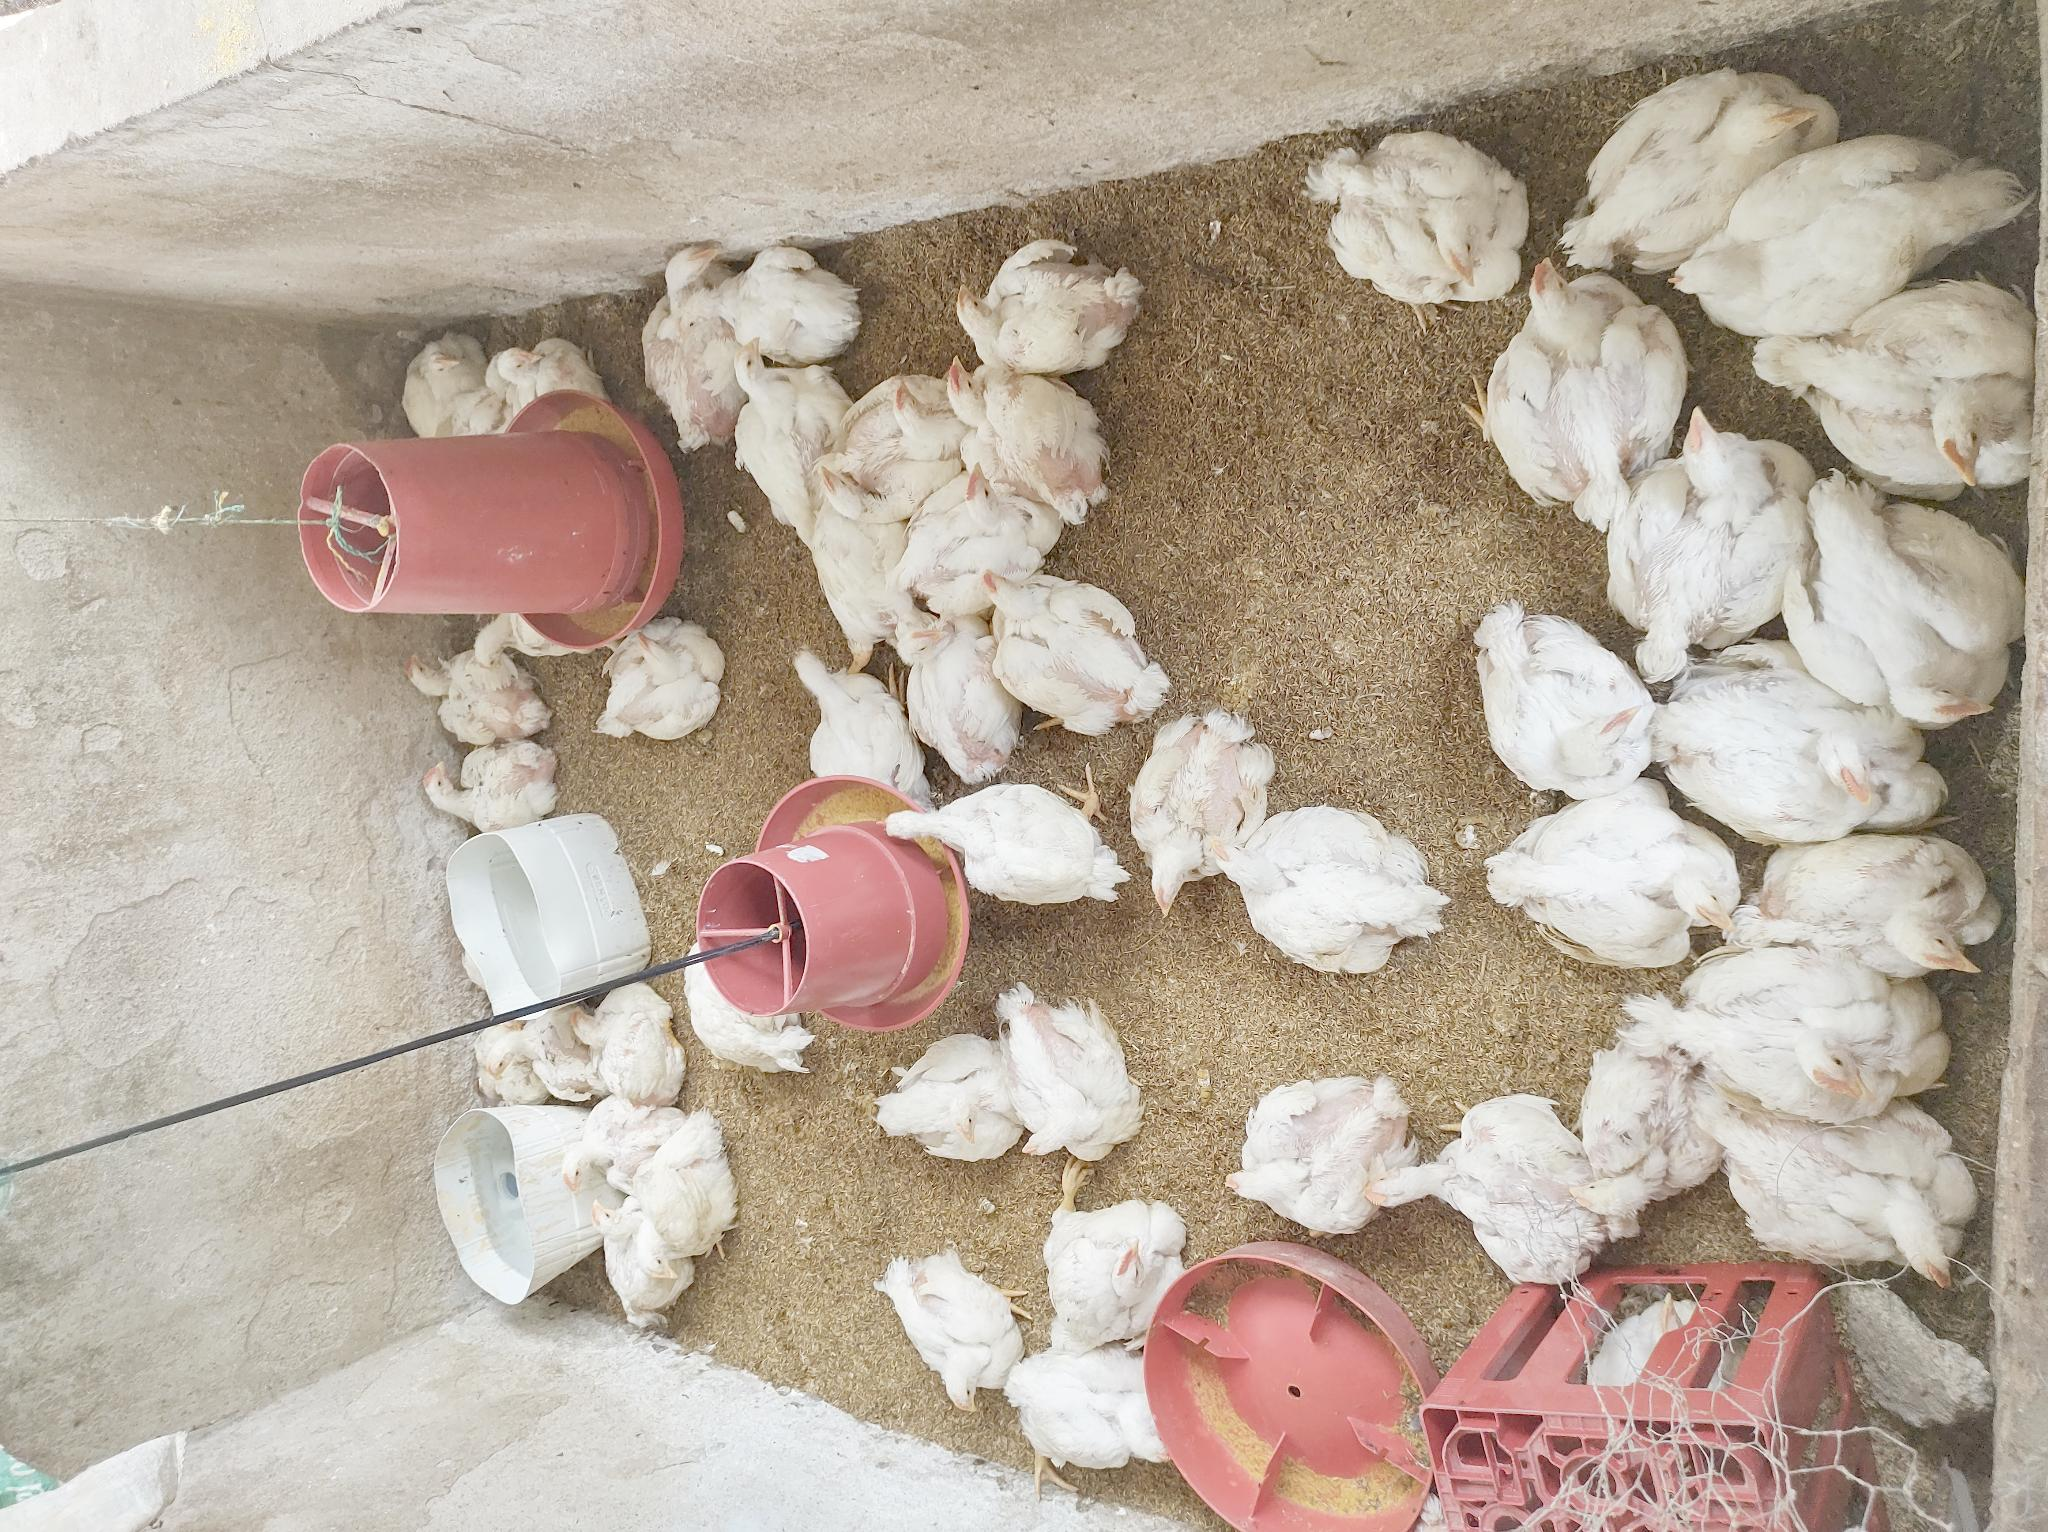Pollos: (1672, 103, 2013, 341), (1691, 1060, 1990, 1303), (1760, 467, 2021, 732), (1569, 39, 1837, 269), (1655, 644, 1964, 842), (1733, 299, 2048, 488), (1470, 240, 1680, 502), (1615, 394, 1803, 674), (1482, 777, 1742, 970), (1377, 1088, 1641, 1278), (1635, 949, 1940, 1106), (1446, 599, 1668, 789), (1734, 809, 1993, 969), (1211, 1064, 1441, 1242), (1310, 126, 1530, 311), (1191, 813, 1454, 962), (975, 555, 1171, 743), (872, 777, 1128, 909), (1591, 991, 1734, 1221), (1133, 708, 1281, 924), (983, 980, 1152, 1167), (930, 352, 1113, 521), (854, 1246, 1038, 1413), (722, 327, 857, 549), (1036, 1163, 1191, 1344), (875, 597, 1026, 774), (629, 240, 753, 451), (944, 241, 1145, 369), (780, 632, 930, 800), (857, 1041, 1047, 1167), (886, 462, 1043, 608), (1002, 1332, 1174, 1464), (681, 235, 862, 352), (677, 940, 819, 1085), (808, 463, 906, 666), (582, 623, 730, 752), (644, 1110, 732, 1305), (557, 980, 690, 1102), (576, 1189, 697, 1323), (404, 644, 558, 747), (830, 372, 965, 488), (415, 743, 566, 834), (557, 1086, 660, 1202), (471, 1012, 607, 1098), (404, 314, 491, 438), (484, 332, 603, 412), (463, 610, 573, 674)
